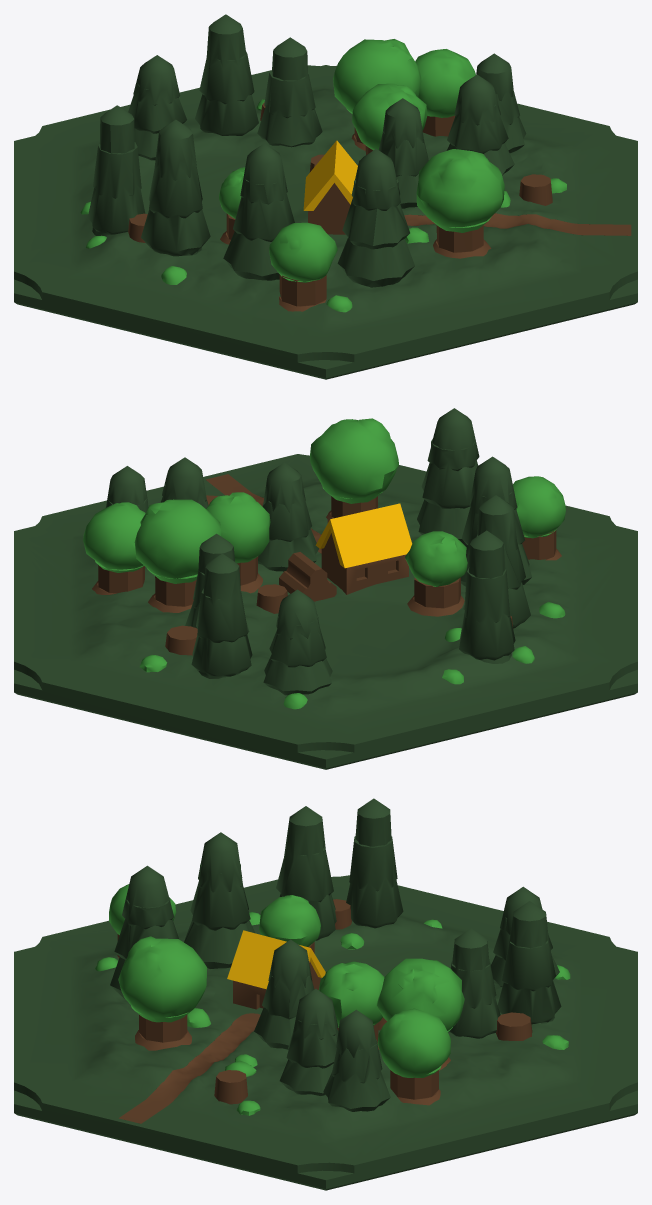
The model's file is wald_3.glb.
The picture shows the model from 3 angles, top to bottom: view 1: azimuth 30°, elevation 25°; view 2: azimuth 150°, elevation 25°; view 3: azimuth 270°, elevation 25°; orthographic projection.
Parts seen in each view (by area): view 1: wald_3; view 2: wald_3; view 3: wald_3.
Part boxes in pixels (x1,y1,x2,y2): wald_3: [14, 14, 637, 379]; wald_3: [14, 408, 637, 769]; wald_3: [14, 798, 637, 1190].
Bounding box in the file's own units: 65.24 × 15.58 × 56.5.
